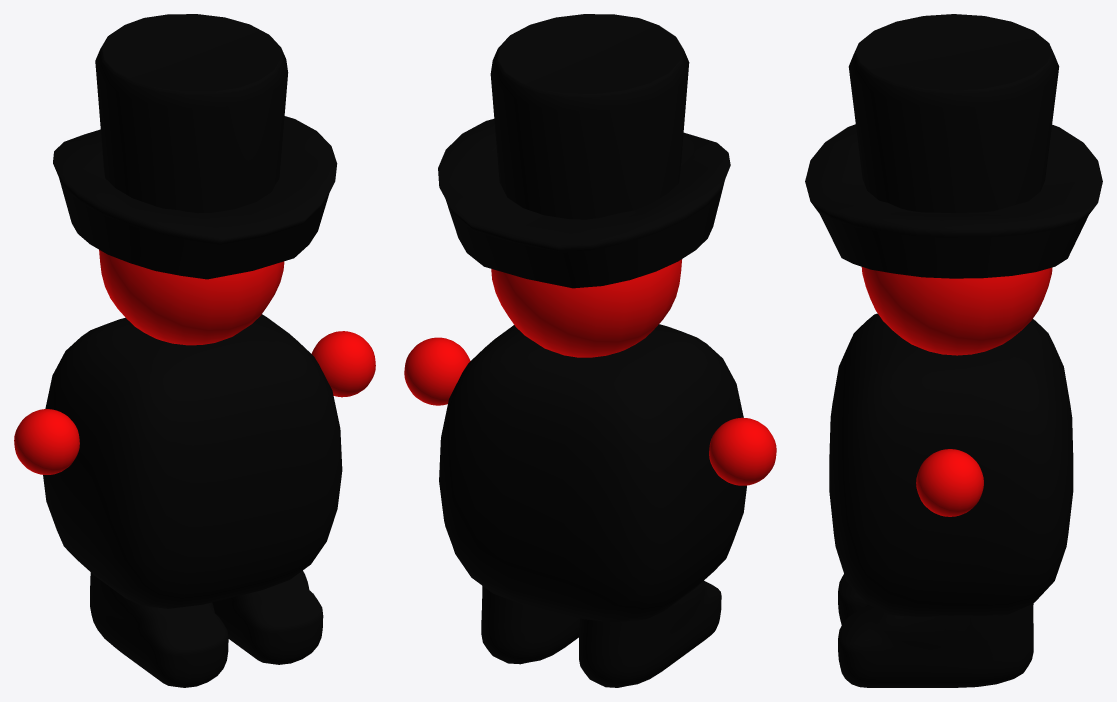
The model's file is hatguy.fbx.
The picture shows the model from 3 angles, left to right: view 1: azimuth 30°, elevation 25°; view 2: azimuth 150°, elevation 25°; view 3: azimuth 270°, elevation 25°; orthographic projection. The views are drawn at different scales.
Parts seen in each view (by area): view 1: pCube1, pDisc1, pSphere1, pCube2, pasted__pCube2, pSphere2, pasted__pSphere2; view 2: pCube1, pDisc1, pSphere1, pCube2, pasted__pCube2, pSphere2, pasted__pSphere2; view 3: pDisc1, pCube1, pasted__pCube2, pSphere1, pasted__pSphere2, pCube2.
Part boxes in pixels (x1,y1,x2,y2): pCube1: [43, 314, 342, 608]; pDisc1: [53, 14, 337, 279]; pSphere1: [99, 249, 284, 345]; pCube2: [90, 572, 228, 687]; pasted__pCube2: [212, 570, 323, 664]; pSphere2: [14, 409, 79, 474]; pasted__pSphere2: [311, 331, 375, 397]; pCube1: [439, 324, 746, 622]; pDisc1: [438, 14, 730, 288]; pSphere1: [491, 259, 682, 357]; pCube2: [579, 581, 721, 687]; pasted__pCube2: [481, 586, 579, 664]; pSphere2: [709, 417, 776, 485]; pasted__pSphere2: [404, 337, 470, 405]; pDisc1: [805, 14, 1102, 278]; pCube1: [829, 313, 1073, 616]; pasted__pCube2: [838, 604, 1033, 687]; pSphere1: [861, 267, 1052, 355]; pasted__pSphere2: [916, 449, 983, 516]; pCube2: [838, 574, 1033, 624].
Size of the model in its own units: 2.75 by 4.38 by 1.96.
